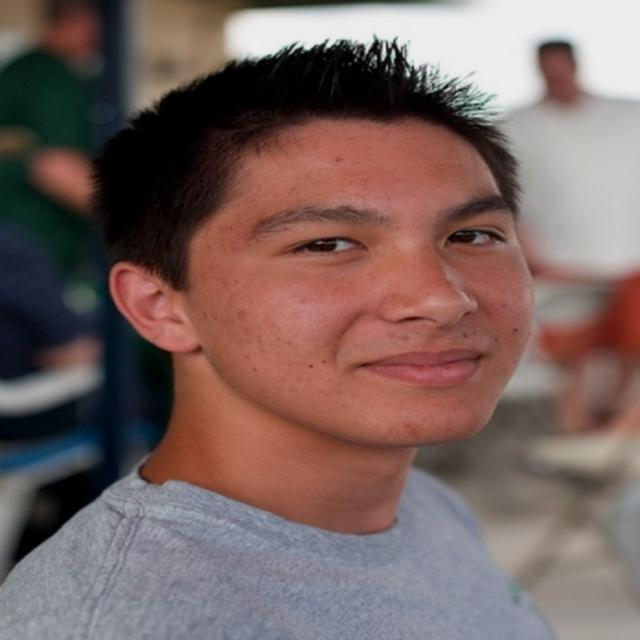piel: (111, 116, 536, 526)
